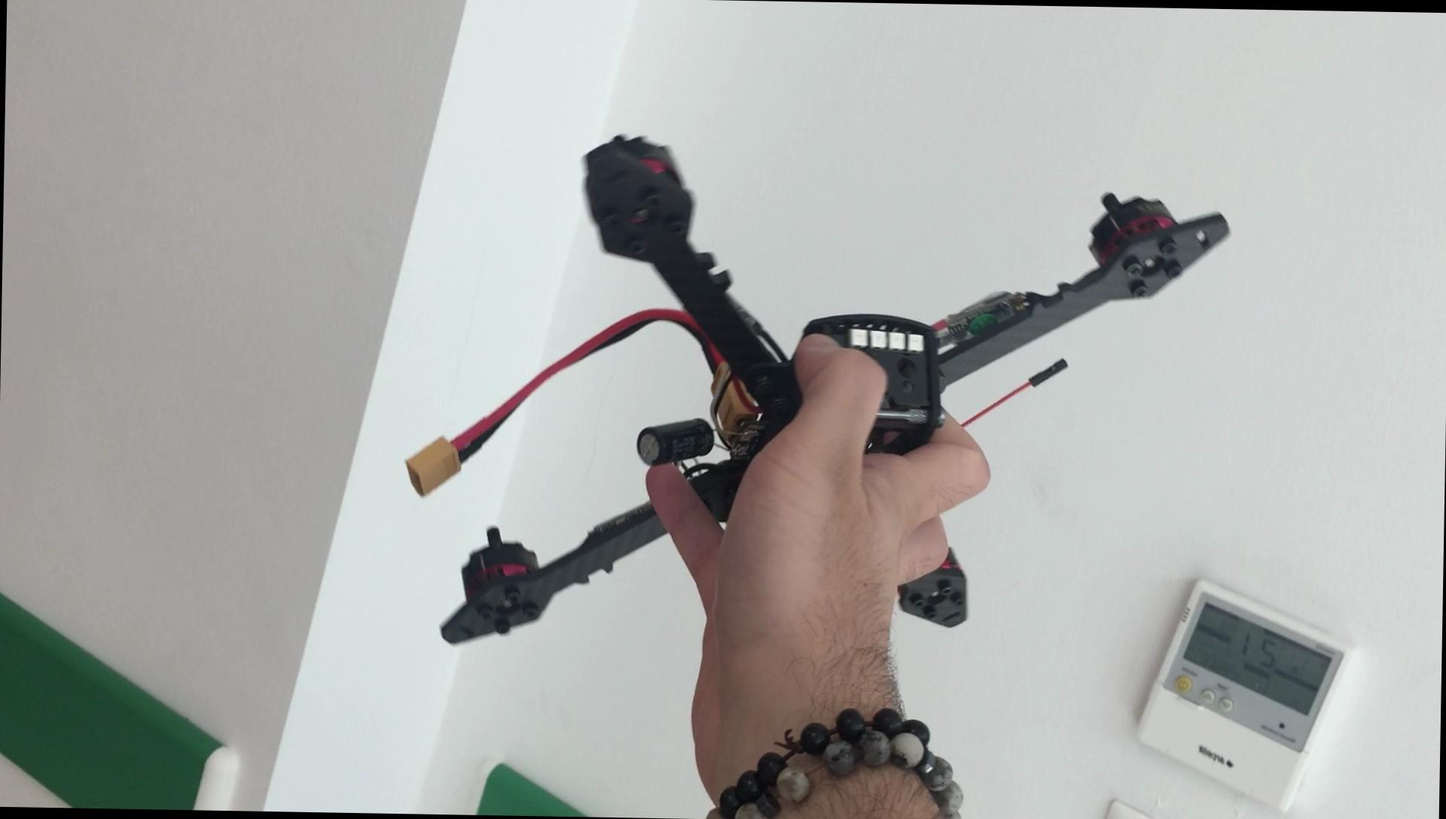drone: (407, 34, 1268, 691)
